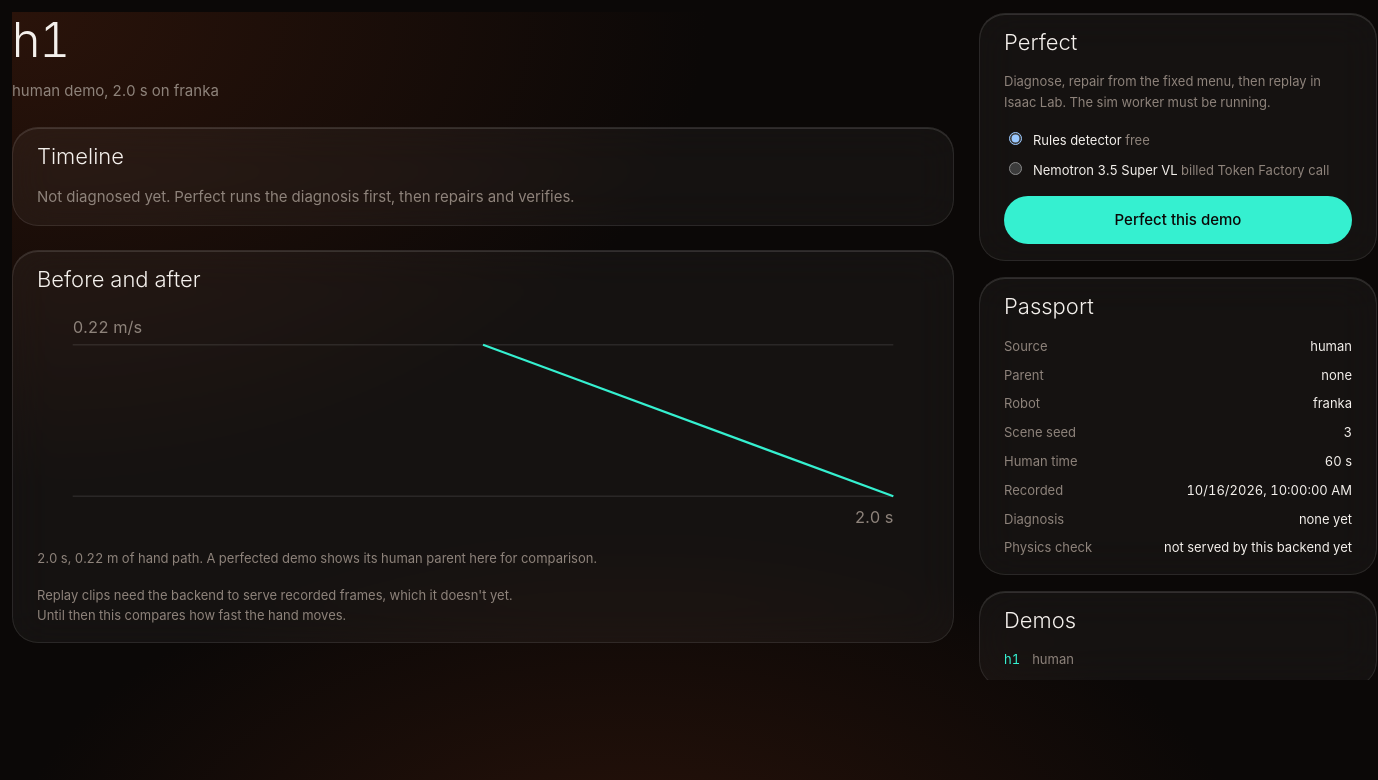
it: Review page › follows T4's job result: the output demo link and the pipeline's verdict
The width and height of the screenshot is (1378, 780).
What coordinates should you click on to do the following:
click the button "Perfect this demo"
I would click on:
 (1178, 220)
Its box is 1004,196 -> 1352,244.
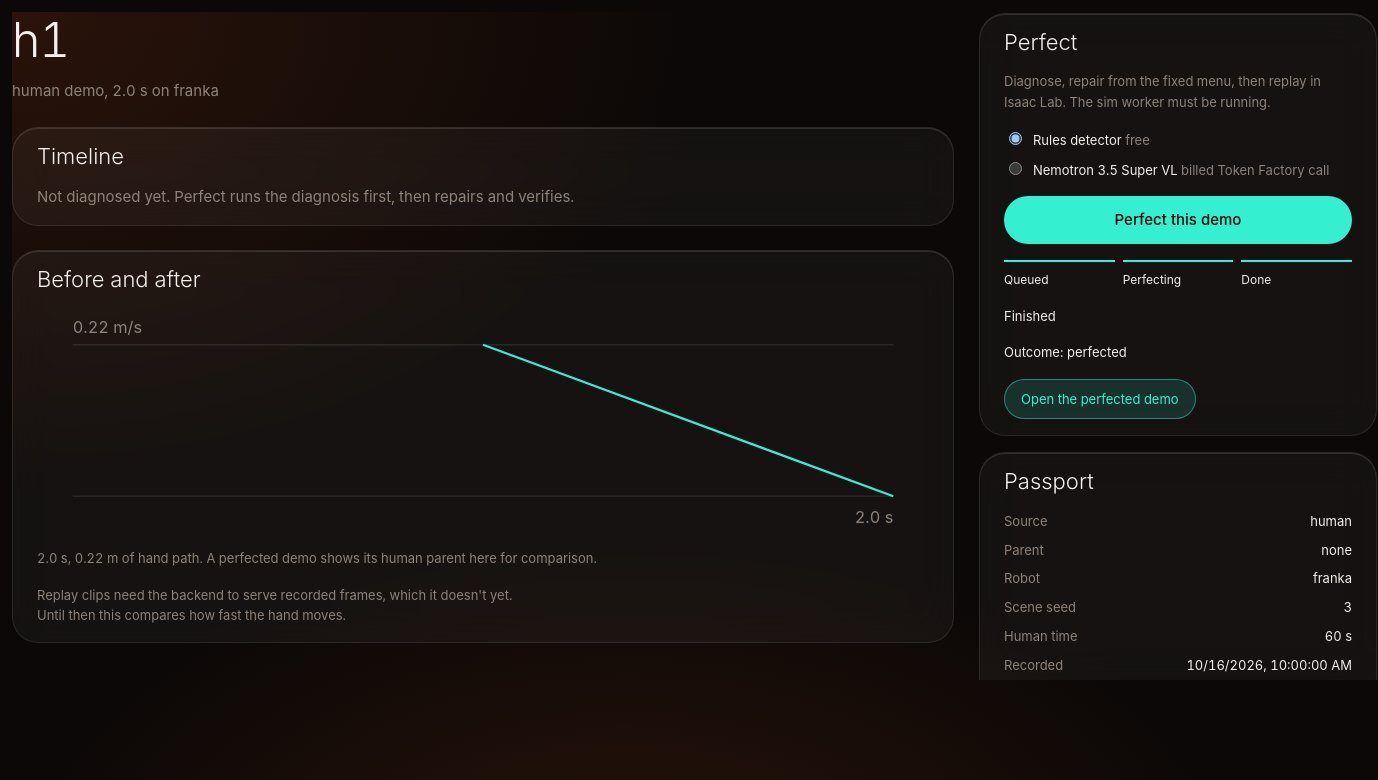
Check: the text "Outcome: perfected" is shown, box 1004,344 -> 1127,360
